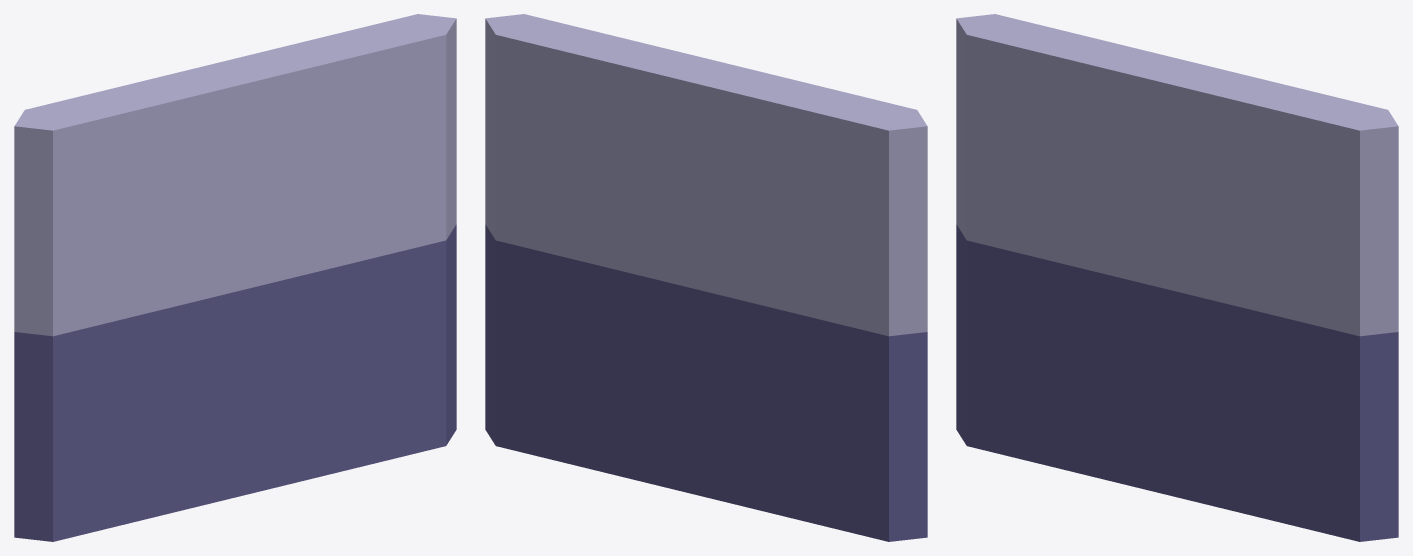
File: Wall.fbx
3 renders of one model, left to right at view 1: azimuth 30°, elevation 25°; view 2: azimuth 150°, elevation 25°; view 3: azimuth 330°, elevation 25°, orthographic.
Visible parts, largest first — view 1: wall_paintDual; view 2: wall_paintDual; view 3: wall_paintDual.
Boxes of the visible parts, box(x1,y1,x2,y2) form: wall_paintDual: box(14, 14, 456, 541); wall_paintDual: box(485, 14, 927, 541); wall_paintDual: box(956, 14, 1398, 541).
Size of the model in its own units: 11.25 by 10 by 1.25.
